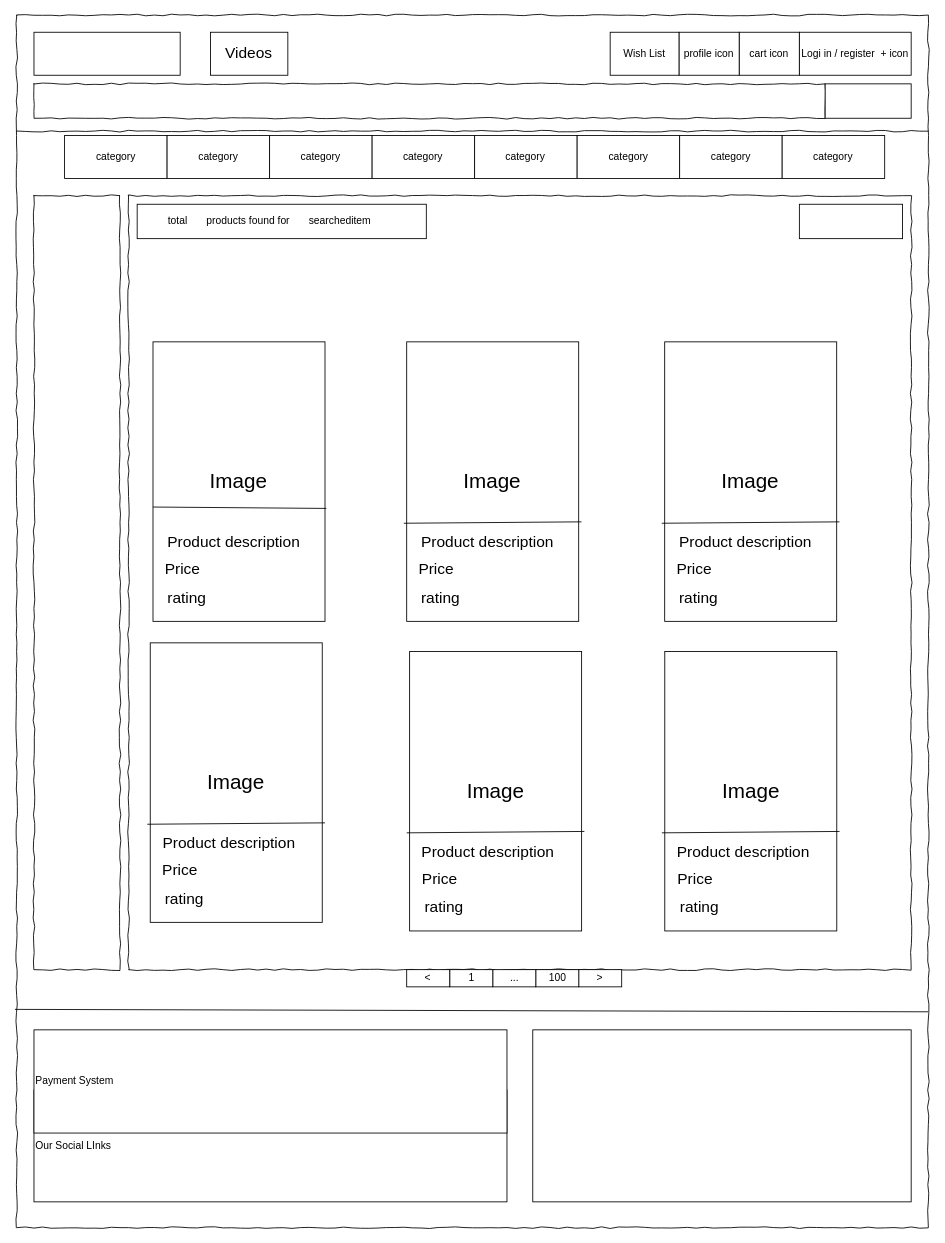
This 945x1243 diagram has some shape labels left out. The shapes that lost their labels are listed below. From the top down, each one's centre as x and y in pixels, then its label:
At point 106,53: "Logo".
At point 429,100: "Search for products".
At point 867,100: "Serach Icon".
At point 851,221: "Sort by".
At point 76,582: "Filter".
At point 721,1115: "Contact Address".
